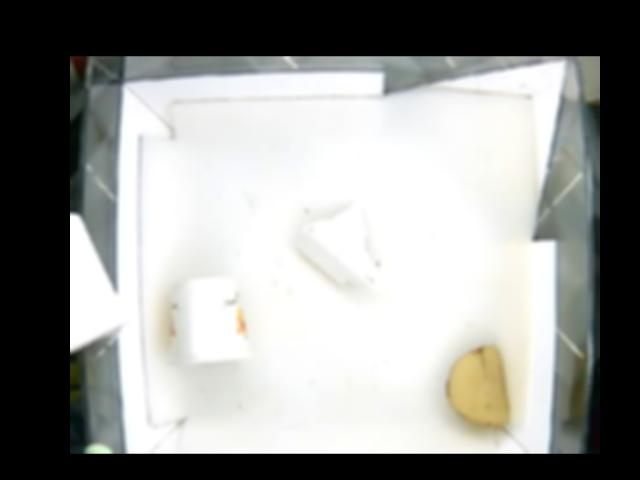China: (296, 204, 382, 295)
Cup: (166, 275, 253, 363)
Potato: (444, 344, 509, 426)
